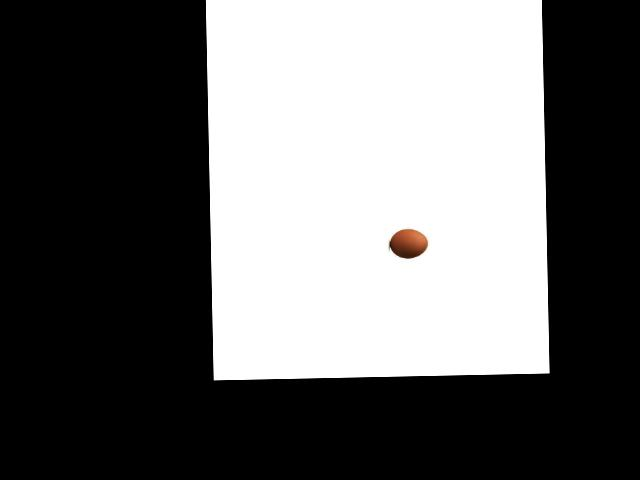egg: (389, 229, 427, 259)
